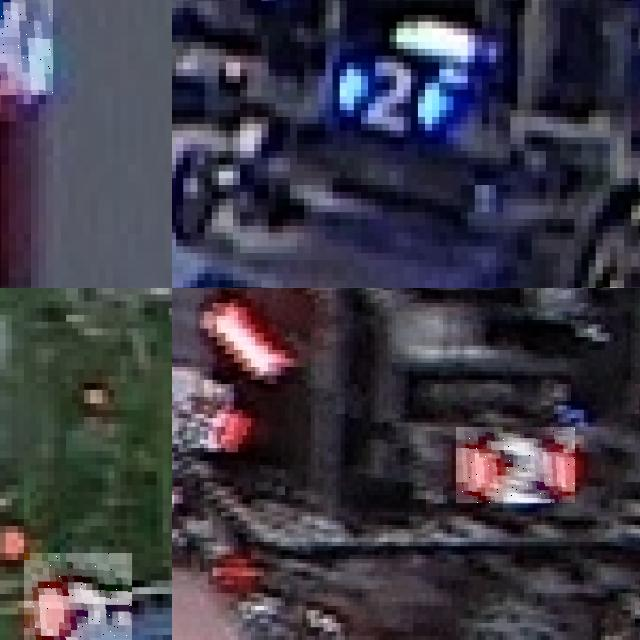B2: (326, 42, 446, 137)
B4: (0, 0, 53, 95)
R2: (23, 553, 132, 640), (456, 427, 575, 503)
